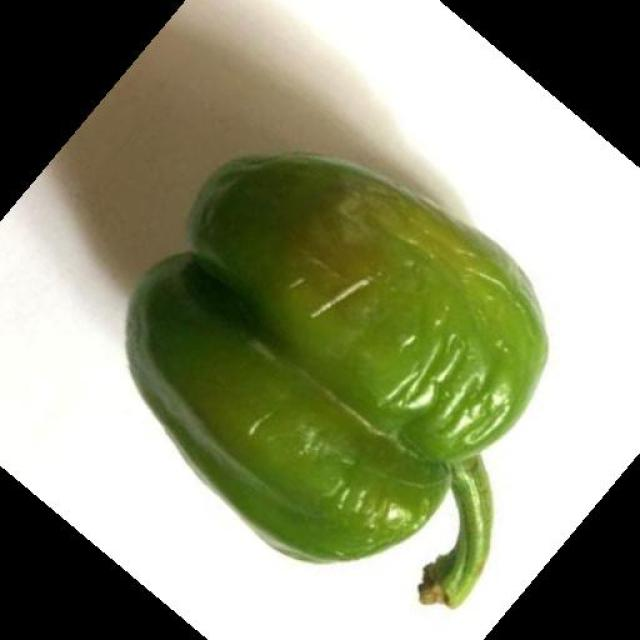Stale_Capsicum: (164, 123, 516, 585)
